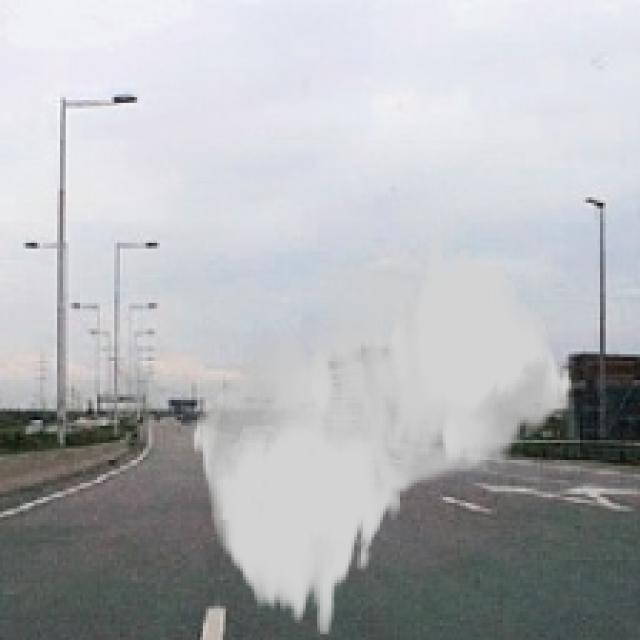smoke: (192, 235, 574, 634)
